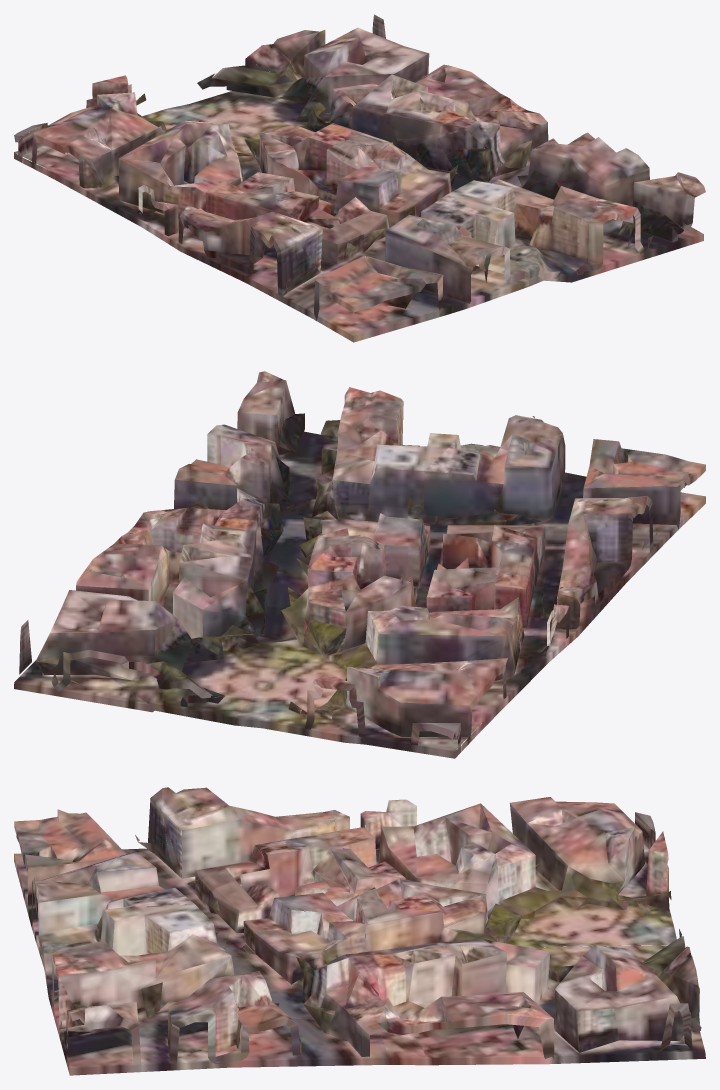
3 views of the same model, one above another, from view 1: azimuth 30°, elevation 25°; view 2: azimuth 150°, elevation 25°; view 3: azimuth 270°, elevation 25° (orthographic). The views are drawn at different scales.
Visible parts, largest first — view 1: Mesh_0; view 2: Mesh_0; view 3: Mesh_0.
Boxes of the visible parts, x1,y1,x2,y2 form: Mesh_0: [14, 14, 705, 342]; Mesh_0: [14, 371, 705, 758]; Mesh_0: [14, 787, 705, 1075].
Bounding box in the file's own units: 267 × 48.03 × 330.
2 materials, 2 textured.
